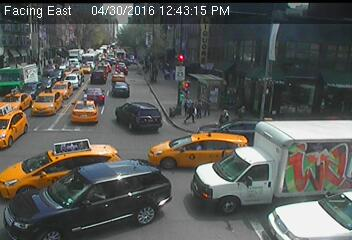neg: (148, 62, 166, 86), (236, 169, 254, 193), (29, 81, 47, 105), (71, 183, 88, 206), (298, 162, 314, 183), (80, 100, 95, 119), (105, 59, 119, 78), (66, 49, 80, 67), (296, 94, 309, 112), (135, 34, 147, 50)
pos: (181, 98, 200, 123), (217, 104, 235, 128), (234, 101, 249, 120)
